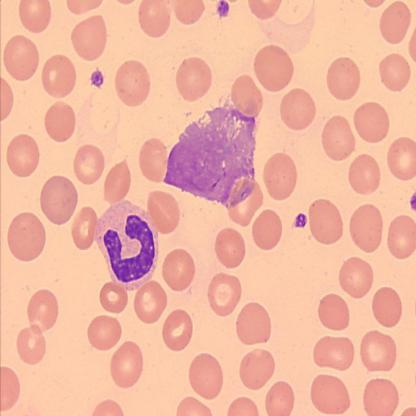Band Neutrophil: (92, 196, 162, 295)
